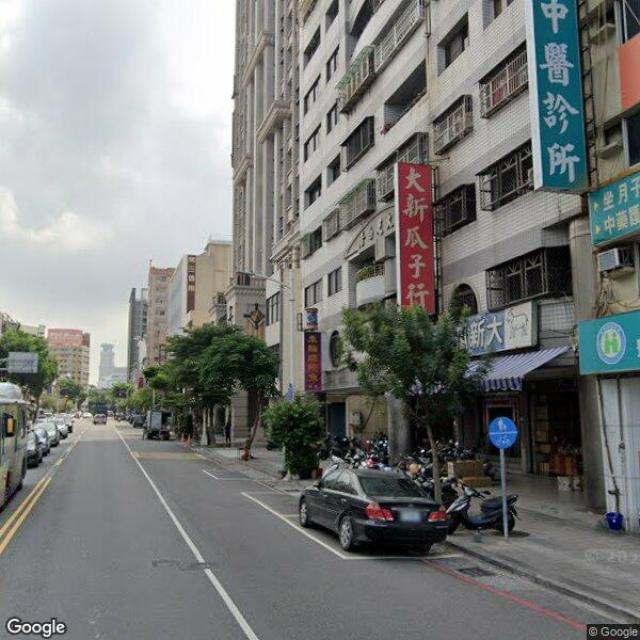Legalparking: (302, 446, 524, 574)
